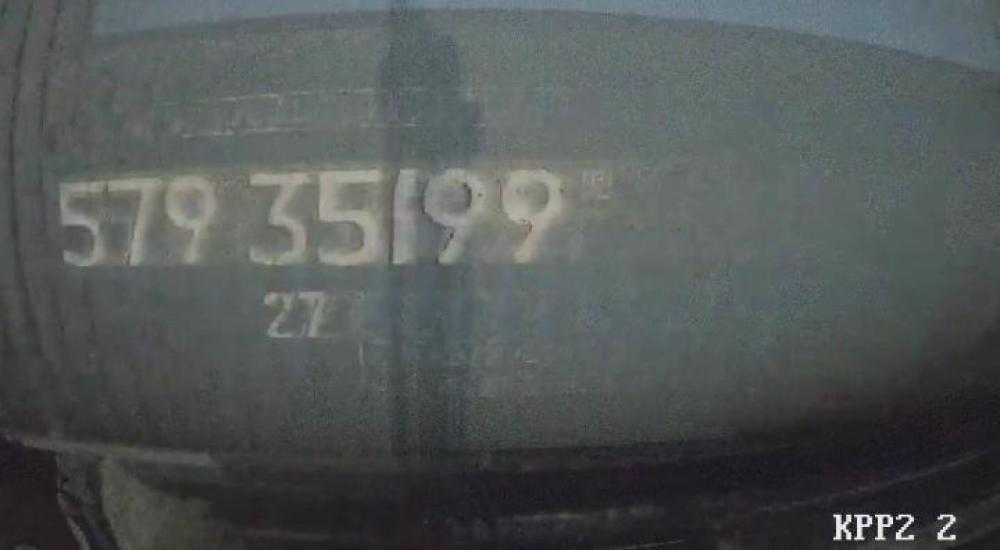Wagon-number: (49, 162, 568, 273)
